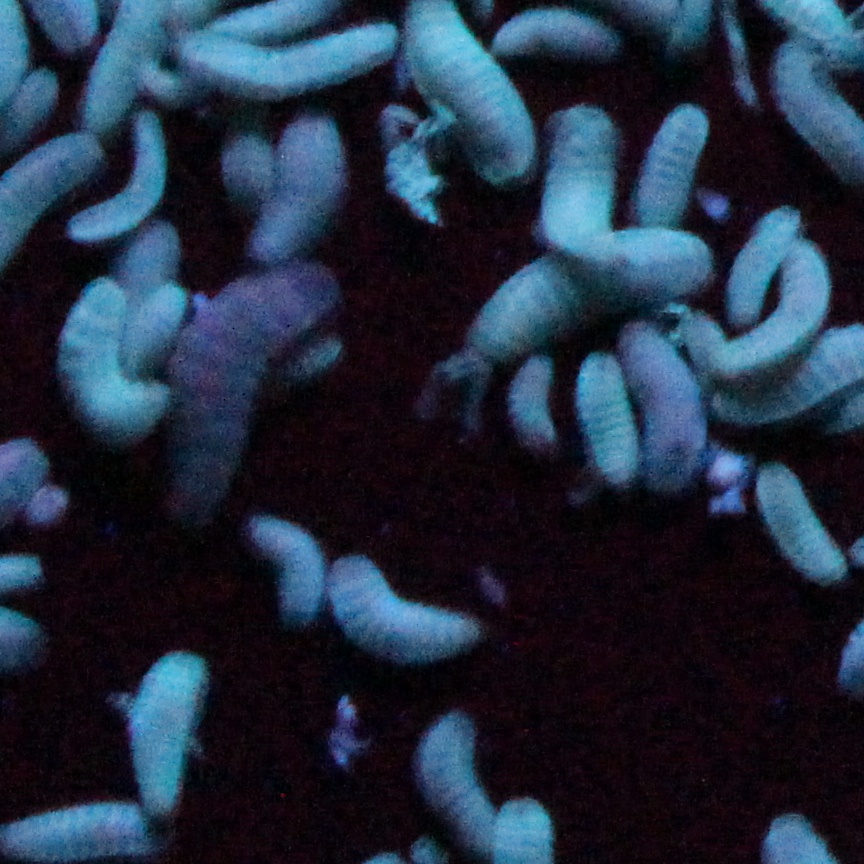larve: (164, 265, 333, 519), (462, 223, 715, 368), (47, 274, 177, 459), (327, 554, 489, 667), (115, 641, 206, 816), (533, 103, 628, 265), (720, 234, 831, 372), (617, 327, 709, 483), (186, 21, 397, 87), (411, 714, 504, 856), (257, 112, 338, 261), (753, 465, 848, 590), (240, 510, 335, 627), (75, 119, 164, 232), (571, 352, 646, 485), (487, 1, 631, 67), (638, 98, 713, 223), (106, 279, 193, 378), (733, 208, 793, 321), (506, 347, 569, 454)
